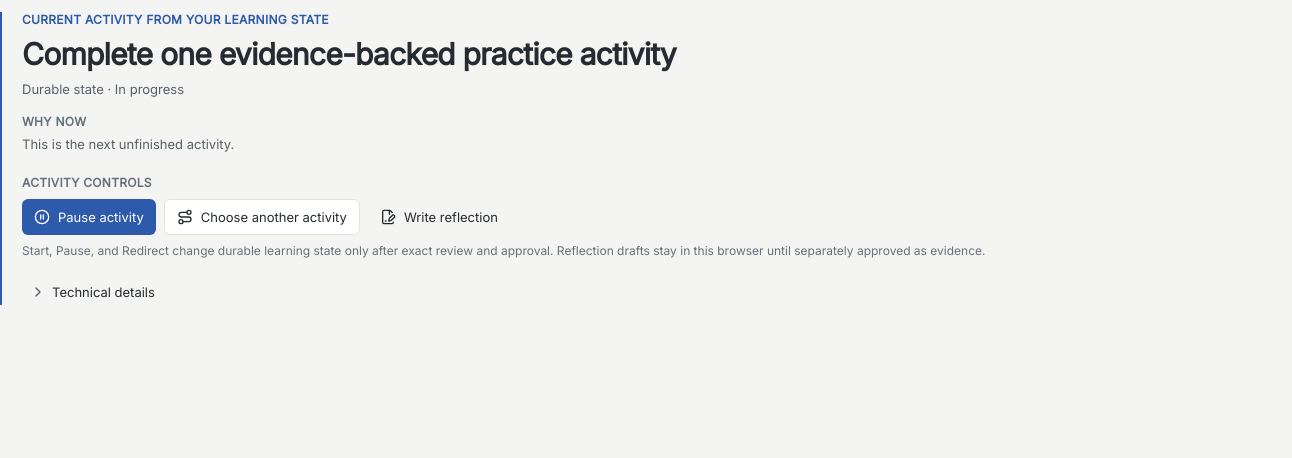
Scenario: StudyState focused learning journey › derives Pause from the sole active activity and shows the exact durable transition
Expected: the text with test id "study-durable-status" reads "Durable state · In progress", [22,81,184,97]
Click the button "Pause activity" at (89, 217), box [22,199,156,235]
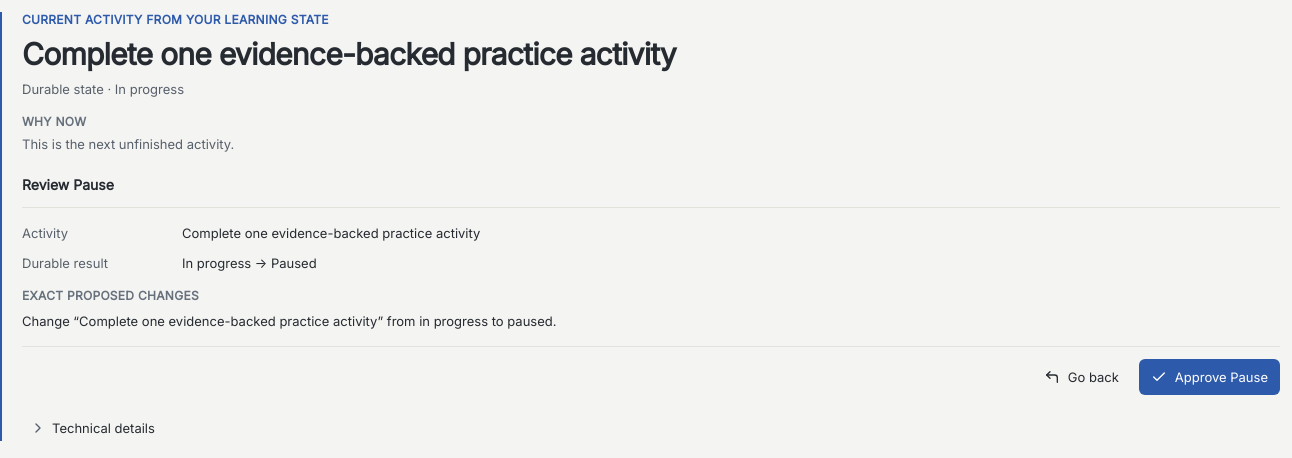
Result: the heading "Review Pause" is shown at [22,176,114,193]
Result: the text with test id "study-review-result" reads "In progress → Paused" at [182,255,317,271]
